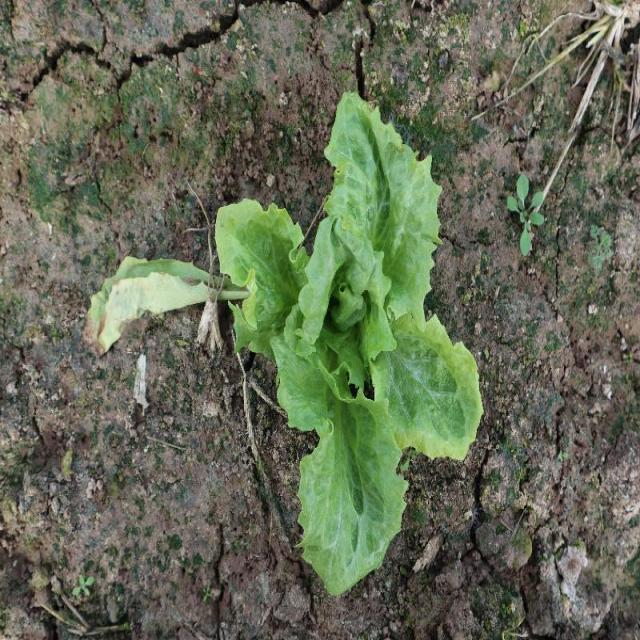crop: (84, 91, 486, 600)
